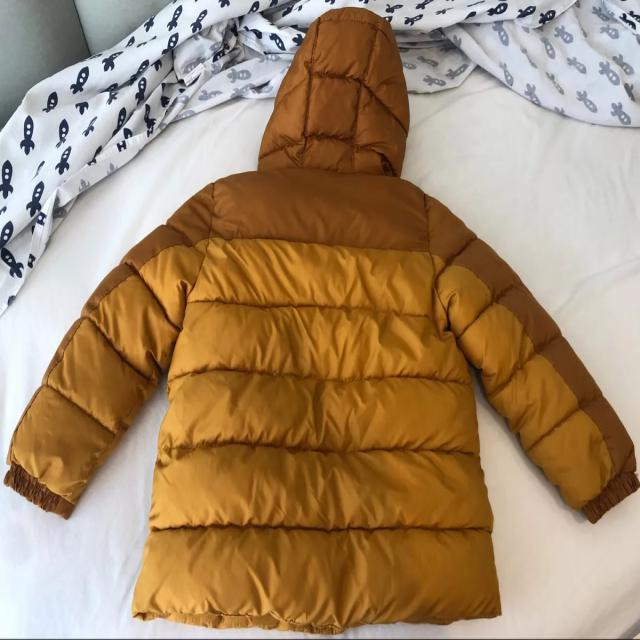coat: (5, 6, 639, 635)
